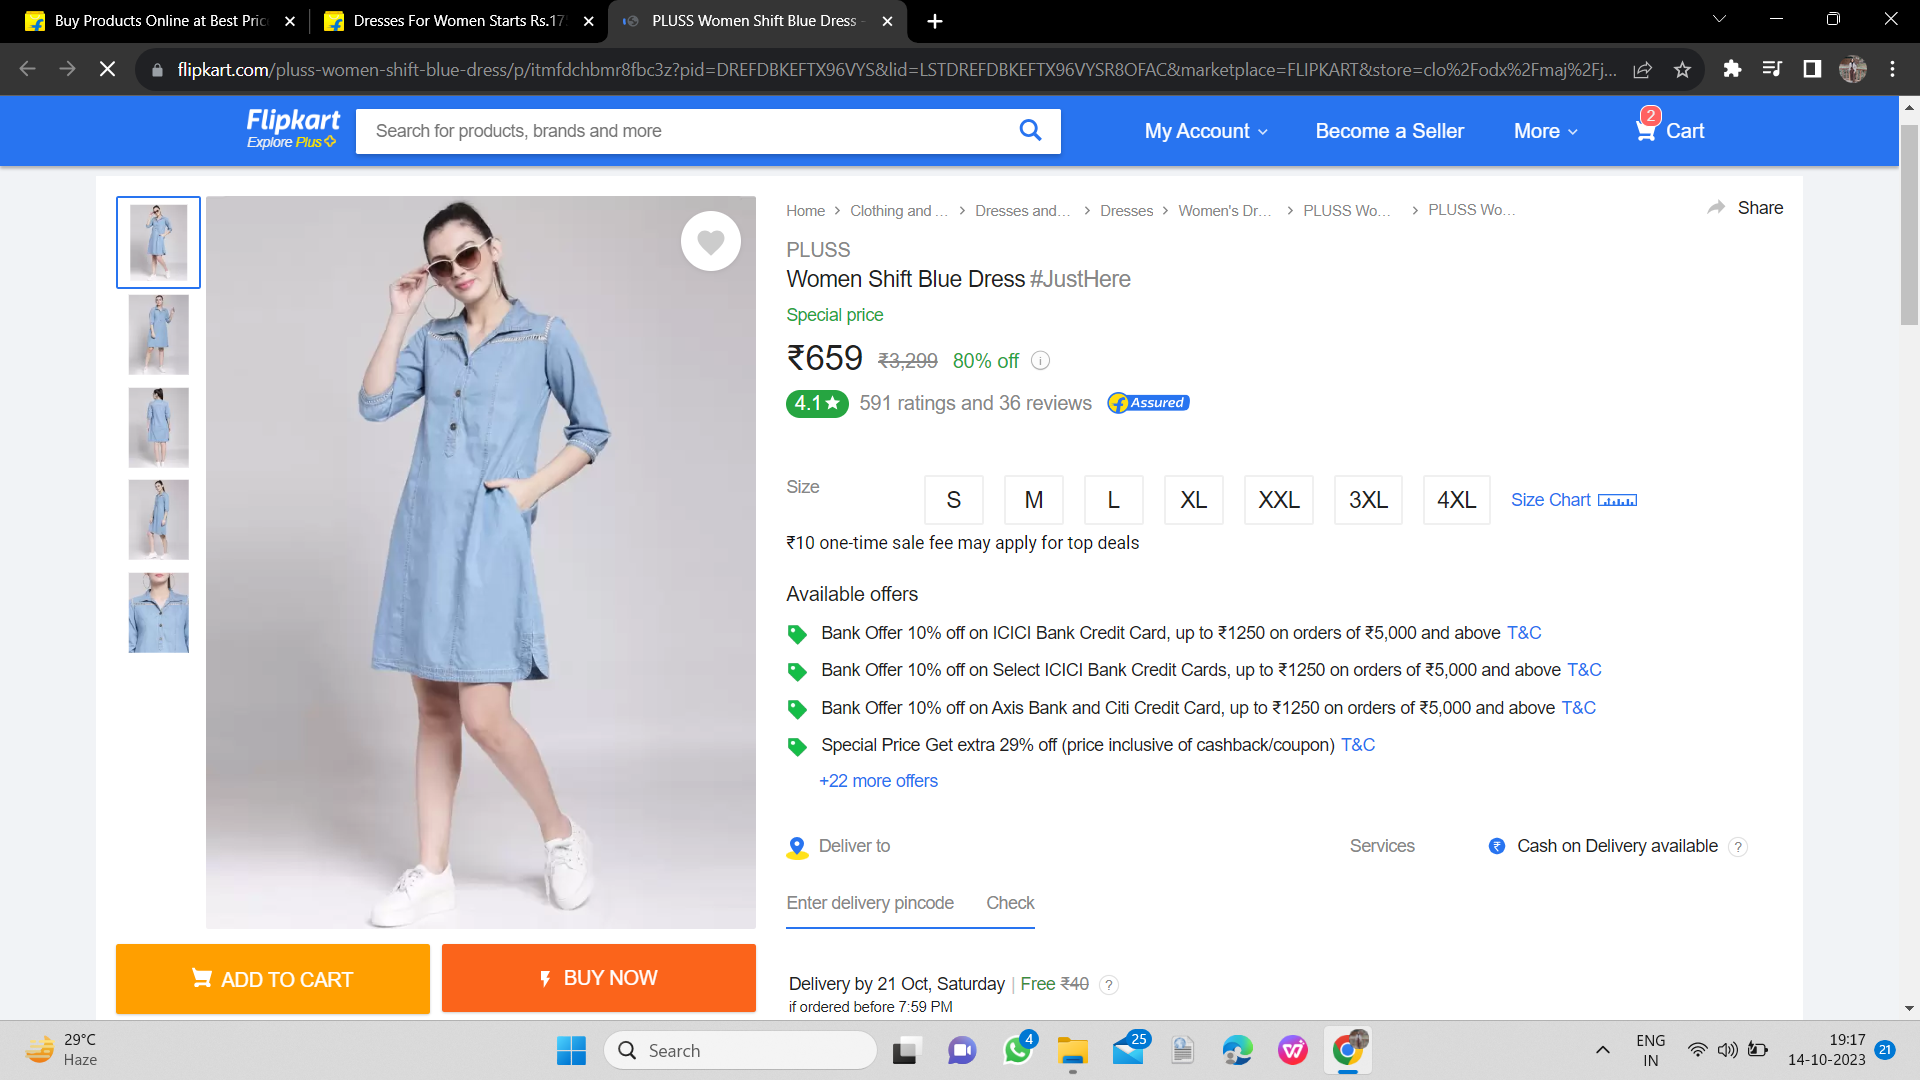Image: (210, 203, 746, 927)
Paragraph: (760, 617, 1638, 798), (909, 471, 1665, 535), (115, 939, 764, 1011), (1113, 98, 1727, 152), (770, 837, 1048, 947), (774, 228, 1133, 299), (774, 302, 1022, 384), (767, 390, 1221, 431), (770, 525, 1163, 556), (1340, 831, 1721, 861), (774, 963, 1018, 990), (779, 574, 927, 601), (779, 472, 828, 505)
